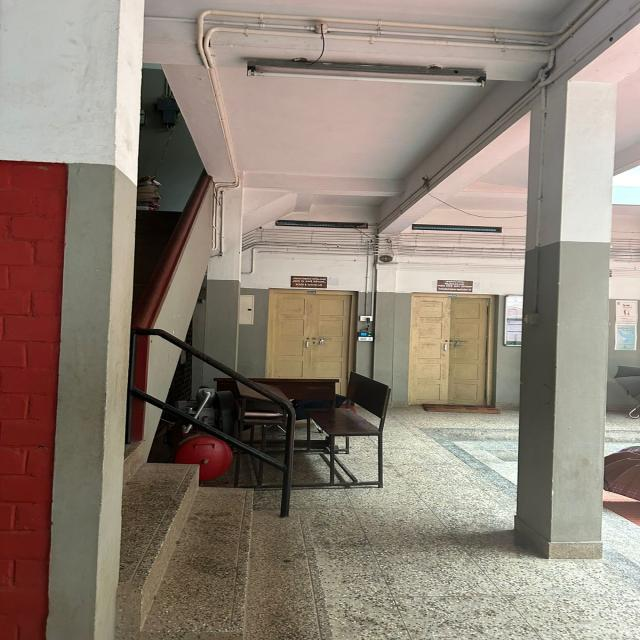bench ahead at: (294, 369, 400, 484)
pillar ahead at: (518, 95, 616, 560)
